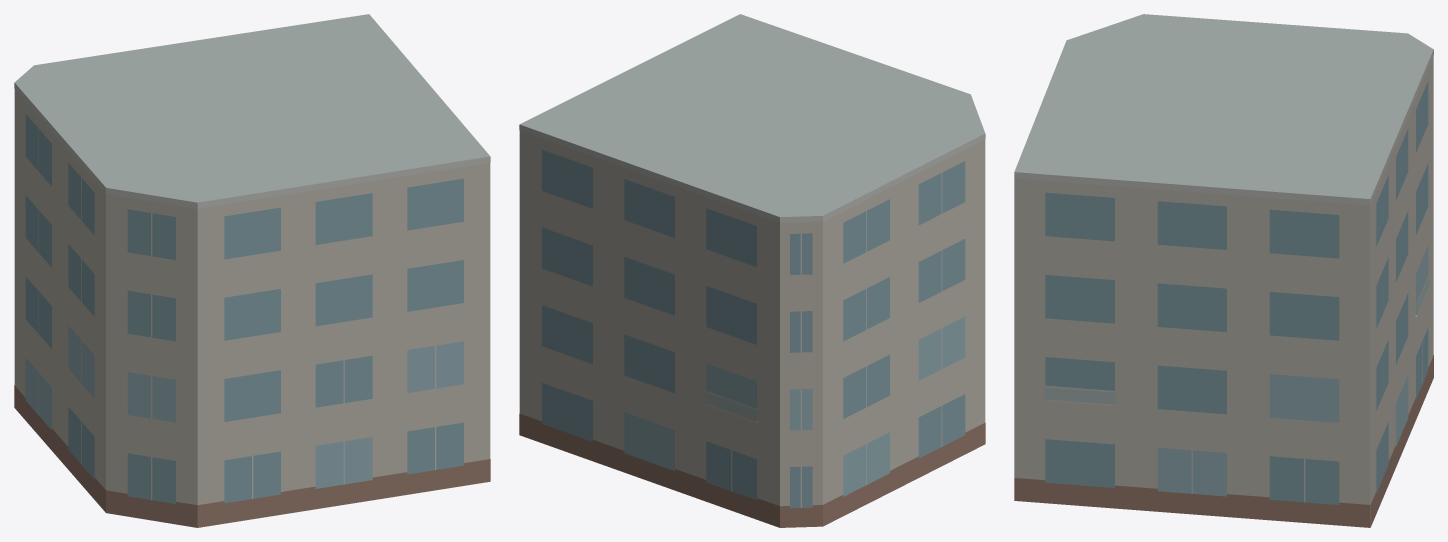
File: survey-upis-32852635.glb
3 renders of one model, left to right at view 1: azimuth 30°, elevation 25°; view 2: azimuth 150°, elevation 25°; view 3: azimuth 270°, elevation 25°, orthographic. The views are drawn at different scales.
Parts seen in each view (by area): view 1: survey-upis-32852635.tmp; view 2: survey-upis-32852635.tmp; view 3: survey-upis-32852635.tmp.
Part boxes in pixels (x1,y1,x2,y2): survey-upis-32852635.tmp: [14, 14, 490, 527]; survey-upis-32852635.tmp: [519, 14, 985, 527]; survey-upis-32852635.tmp: [1014, 14, 1433, 527].
Bounding box in the file's own units: 15.59 × 12.9 × 14.93.
